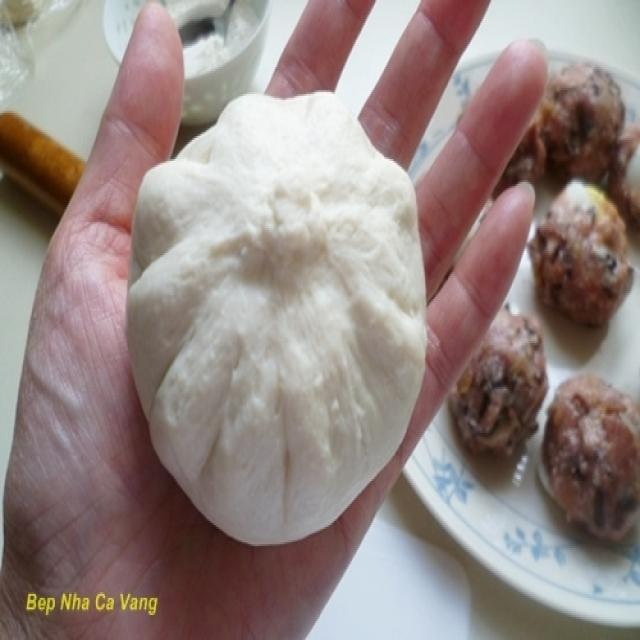带馅早点: (109, 76, 445, 554)
